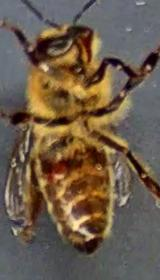varroa_mite: (36, 156, 78, 190)
